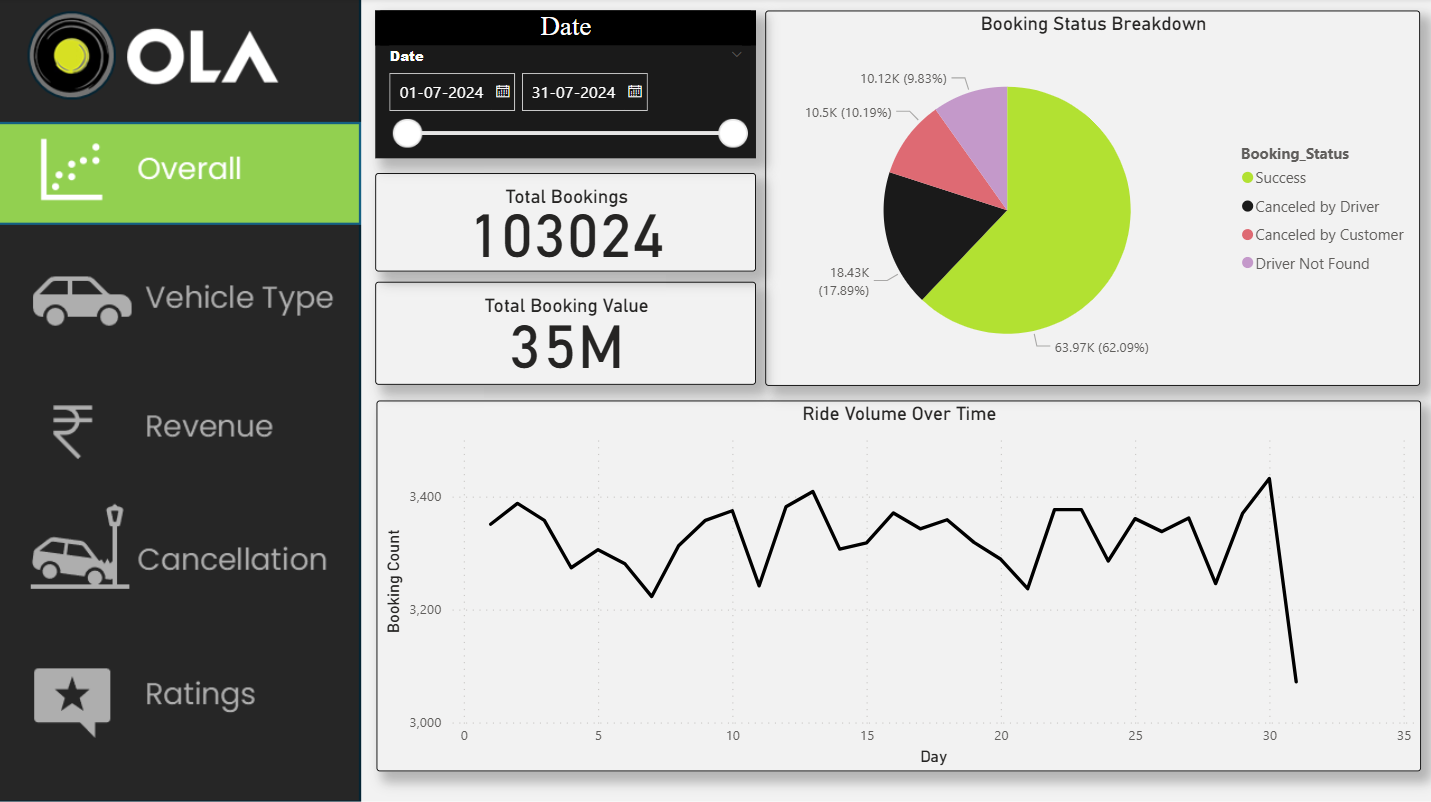

This screenshot's page, from the dashboard's own definition file:
{"tool":"powerbi","page":{"name":"Overall","canvas":[1280,720],"ordinal":0},"visuals":[{"type":"actionButton","box":[0,345.3,325.6,93],"z":0},{"type":"actionButton","box":[0,447.7,325.6,93],"z":1000},{"type":"actionButton","box":[11.6,581.4,325.6,93],"z":2000},{"type":"actionButton","box":[0,218.6,325.6,93],"z":3000},{"type":"lineChart","title":"Ride Volume Over Time","fields":{"Category":["July (2).Date.Variation.Date Hierarchy.Day"],"Y":["CountNonNull(July (2).Booking_ID)"]},"box":[336.8,360,932.6,331.3],"z":4000},{"type":"pieChart","title":"Booking Status Breakdown","fields":{"Category":["July (2).Booking_Status"],"Y":["CountNonNull(July (2).Booking_Status)"]},"box":[684.5,10.9,584.9,335.4],"z":5000},{"type":"slicer","title":"Date","fields":{"Values":["July (2).Date"]},"box":[336.2,11,340.3,131.7],"z":6000},{"type":"card","title":"Total Bookings","fields":{"Values":["Count(July (2).Booking_ID)"]},"box":[336.2,156.4,340.3,87.8],"z":7000},{"type":"card","title":"Total Booking Value","fields":{"Values":["Sum(July (2).Booking_Value)"]},"box":[336.2,253.9,340.3,91.9],"z":8000}]}

Visuals, with their boxes in screenshot pixels (x1, y1, x2, y2), scaled from the page's 1280x720 canvas onto the 1431x802 screenshot:
actionButton: 0 385 364 488
actionButton: 0 499 364 602
actionButton: 13 648 377 751
actionButton: 0 243 364 347
"Ride Volume Over Time" lineChart: 377 401 1419 770
"Booking Status Breakdown" pieChart: 765 12 1419 386
"Date" slicer: 376 12 756 159
"Total Bookings" card: 376 174 756 272
"Total Booking Value" card: 376 283 756 385
